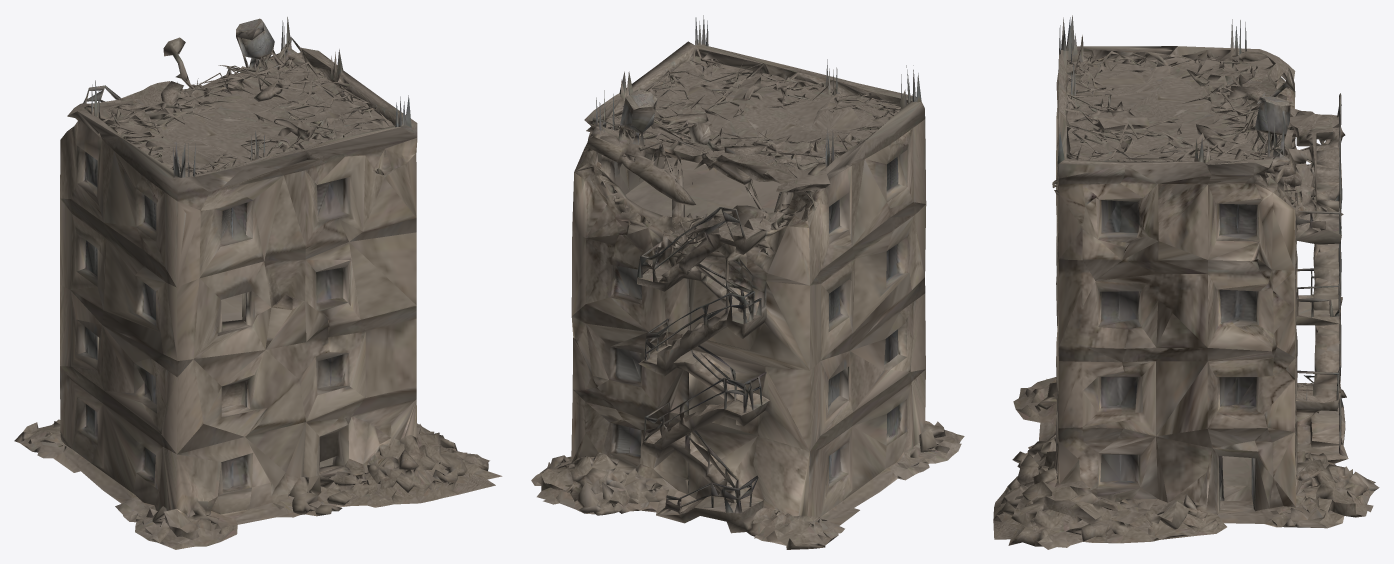
The model's file is apartment_wreck.glb.
The picture shows the model from 3 angles, left to right: view 1: azimuth 30°, elevation 25°; view 2: azimuth 150°, elevation 25°; view 3: azimuth 270°, elevation 25°; orthographic projection.
Parts seen in each view (by area): view 1: wall, roof; view 2: wall, roof; view 3: wall, roof.
Part boxes in pixels (box(x1,y1,x2,y2)): wall: box(14, 17, 488, 546); roof: box(20, 18, 502, 549); wall: box(535, 15, 960, 549); roof: box(531, 44, 964, 545); wall: box(993, 15, 1379, 547); roof: box(993, 46, 1374, 549).
Size of the model in its own units: 21.2 by 23.23 by 20.73.
Materials: 1 (1 with a texture image).
